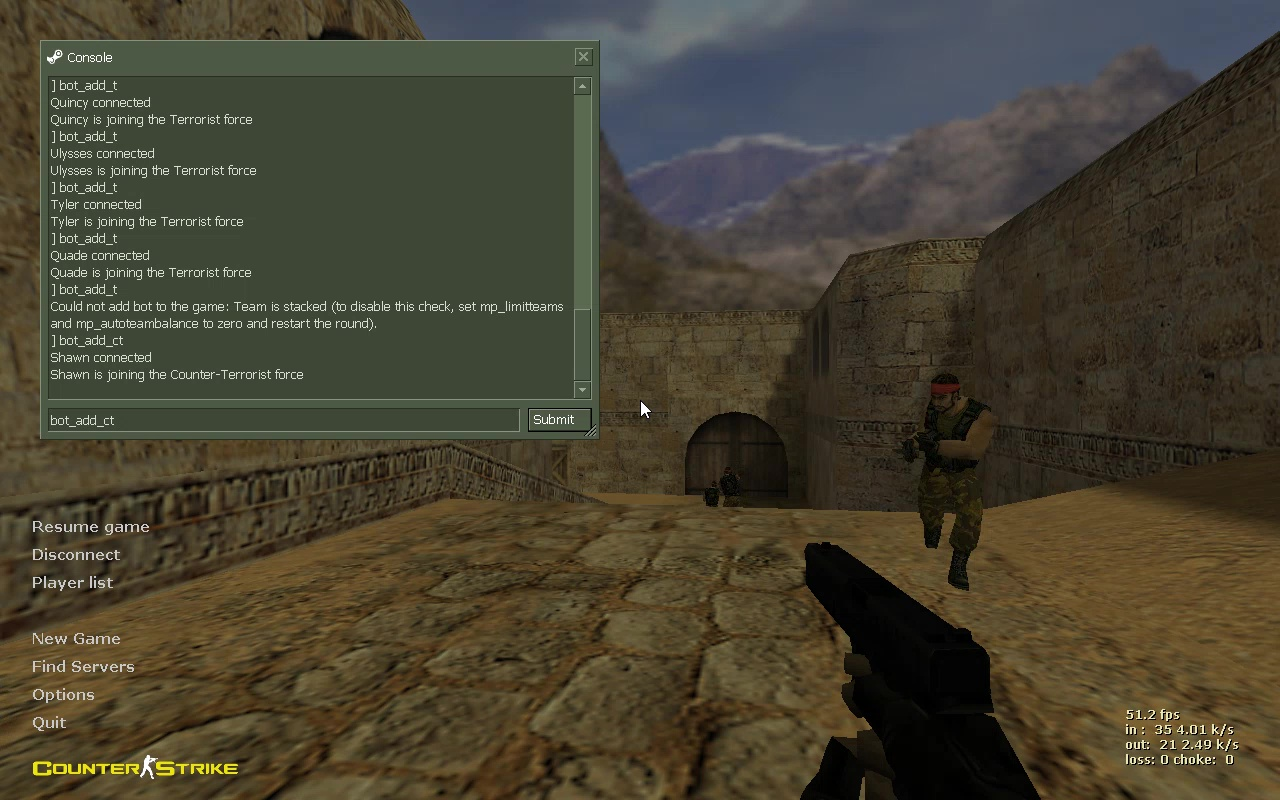terr1: (908, 372, 998, 589), (718, 468, 745, 509)
